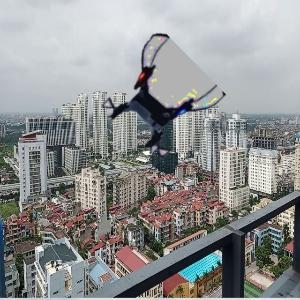drone: (108, 49, 212, 153)
